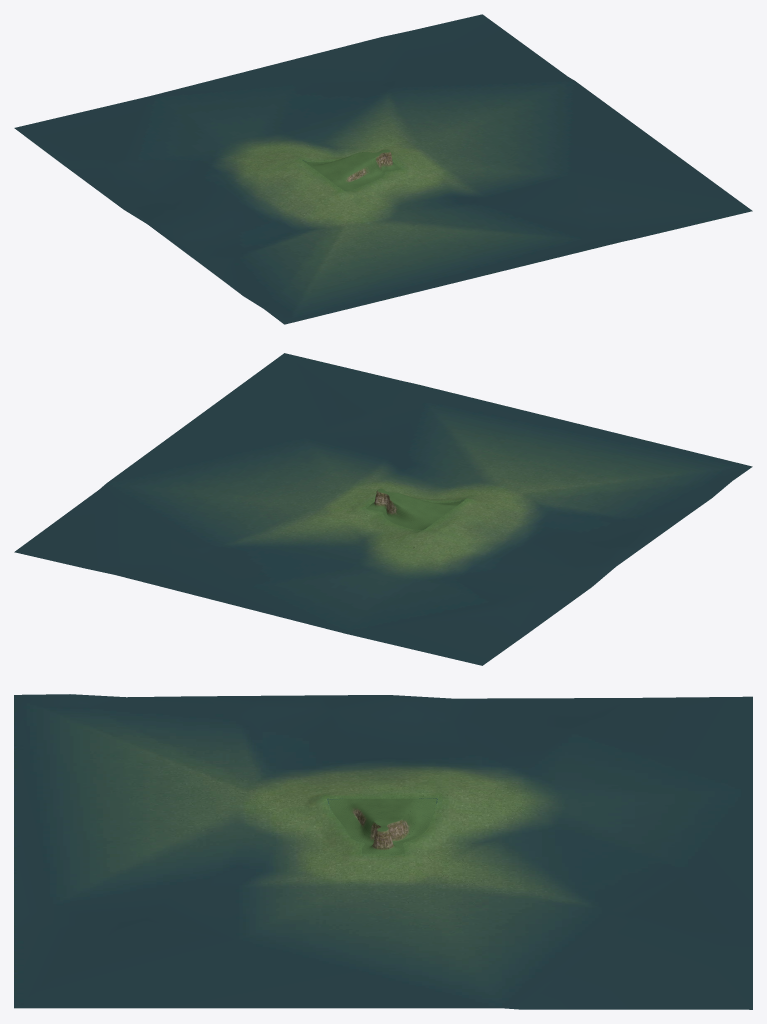
The model's file is ground-desktop.glb.
3 renders of one model, top to bottom at view 1: azimuth 30°, elevation 25°; view 2: azimuth 150°, elevation 25°; view 3: azimuth 270°, elevation 25°, orthographic. The views are drawn at different scales.
Parts seen in each view (by area): view 1: Game_Landscape, Game_Plateau; view 2: Game_Landscape, Game_Plateau; view 3: Game_Landscape, Game_Plateau.
Boxes of the visible parts, x1=… form: Game_Landscape: x1=14, y1=14, x2=752, y2=324; Game_Plateau: x1=303, y1=149, x2=400, y2=190; Game_Landscape: x1=14, y1=353, x2=752, y2=665; Game_Plateau: x1=366, y1=488, x2=463, y2=529; Game_Landscape: x1=14, y1=694, x2=752, y2=1009; Game_Plateau: x1=328, y1=798, x2=436, y2=853.
Size of the model in its own units: 360 by 14.8 by 360.
2 materials, 2 textured.
